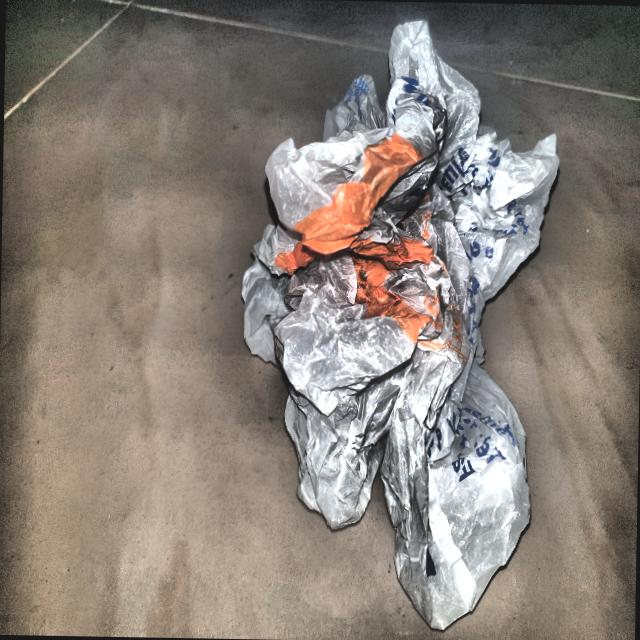plastic bag: (227, 10, 565, 640)
